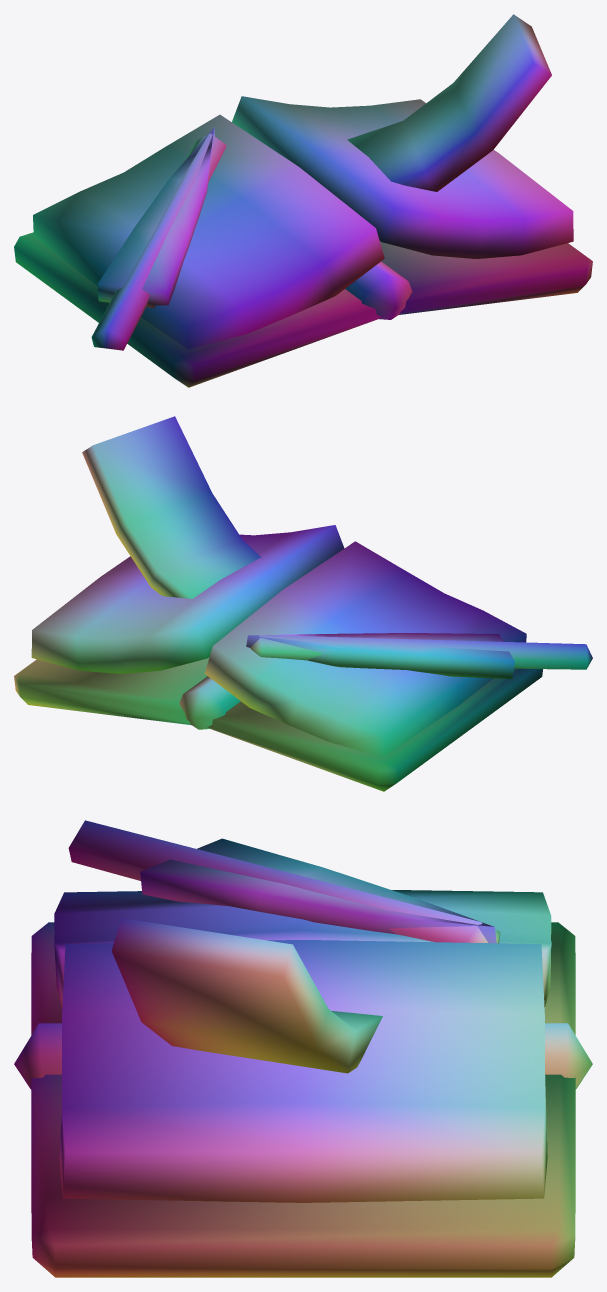
Rendered from SM_Prop_Lore_TornJournal.fbx.
3 views of the same model, one above another, from view 1: azimuth 30°, elevation 25°; view 2: azimuth 150°, elevation 25°; view 3: azimuth 270°, elevation 25° (orthographic). The views are drawn at different scales.
Visible parts, largest first — view 1: SM_Prop_Lore_TornJournal; view 2: SM_Prop_Lore_TornJournal; view 3: SM_Prop_Lore_TornJournal.
Part boxes in pixels (left/top/right/bottom): SM_Prop_Lore_TornJournal: left=14, top=14, right=592, bottom=387; SM_Prop_Lore_TornJournal: left=14, top=416, right=592, bottom=791; SM_Prop_Lore_TornJournal: left=14, top=820, right=592, bottom=1277.
Bounding box in the file's own units: 0.5165 × 0.2188 × 0.3352.
